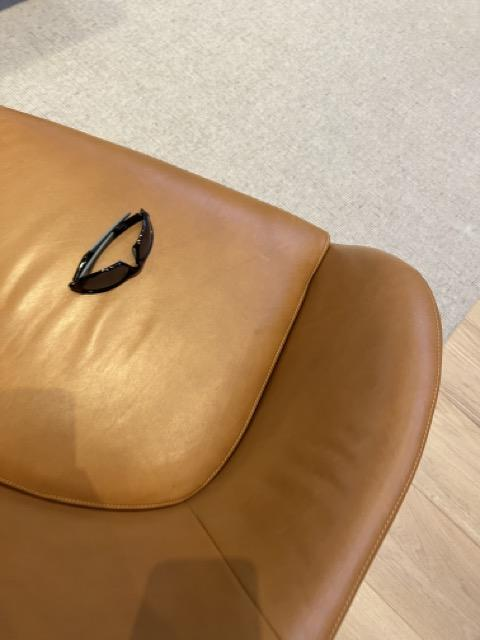Sunglasses: (69, 208, 156, 297)
